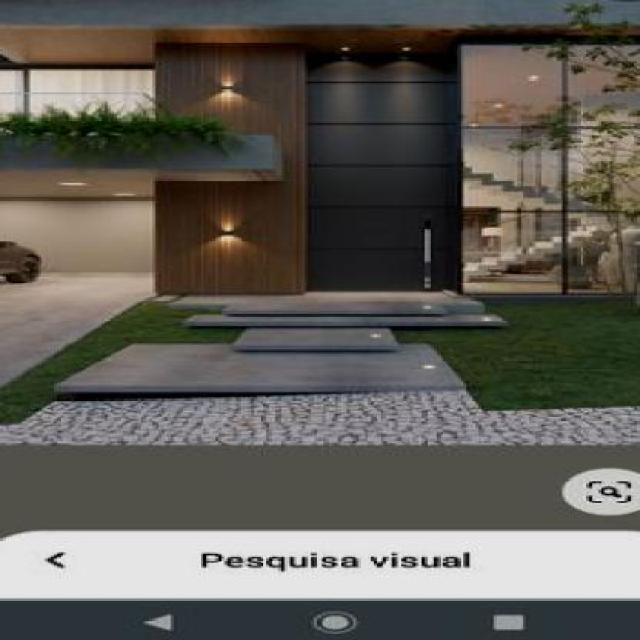stair: (46, 278, 477, 411)
